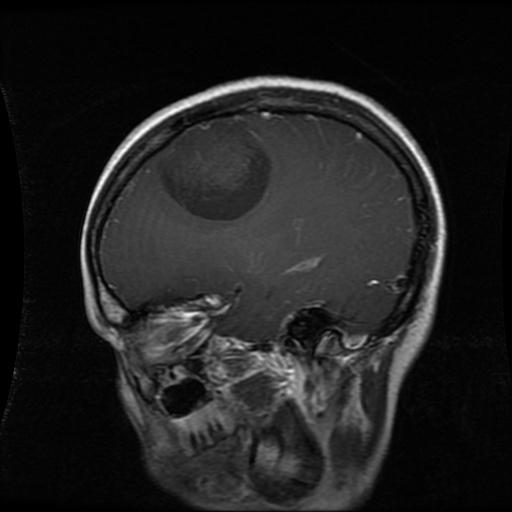glioma: (161, 126, 275, 215)
